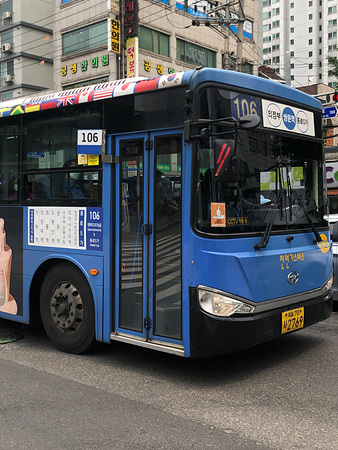entrance: (109, 129, 187, 350)
